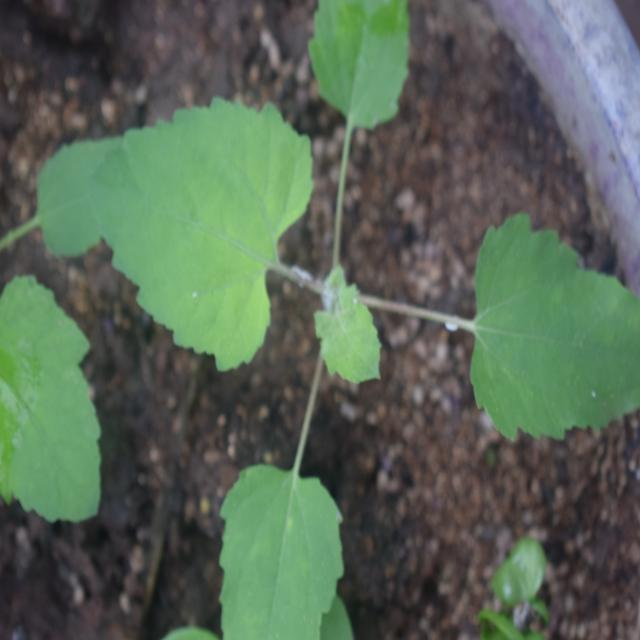cocklebur: (113, 33, 601, 570)
